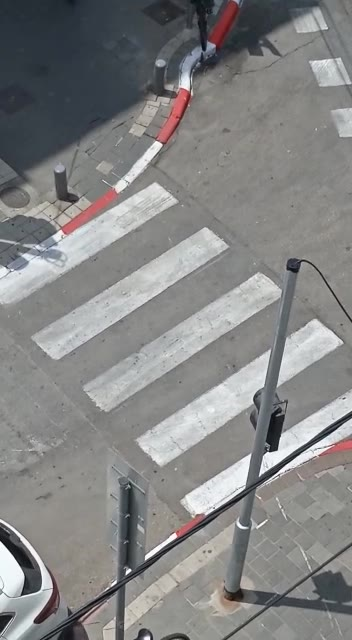crosswalk: (7, 175, 324, 519)
